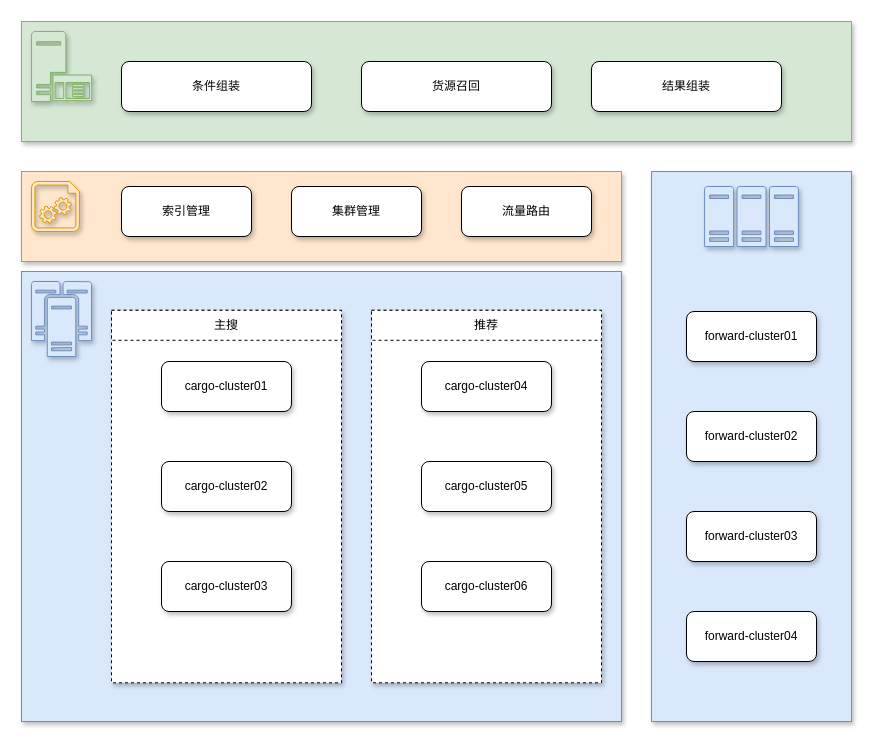
This 875x746 diagram has some shape labels left out. The shapes that lost their labels are listed below. From the top down, each one's centre as x and y in pixels, then its label:
the point at 62,67: 检索服务
the point at 56,207: knowsearch
the point at 752,218: 正排 Redis cluster
the point at 62,320: 倒排 ES cluster
